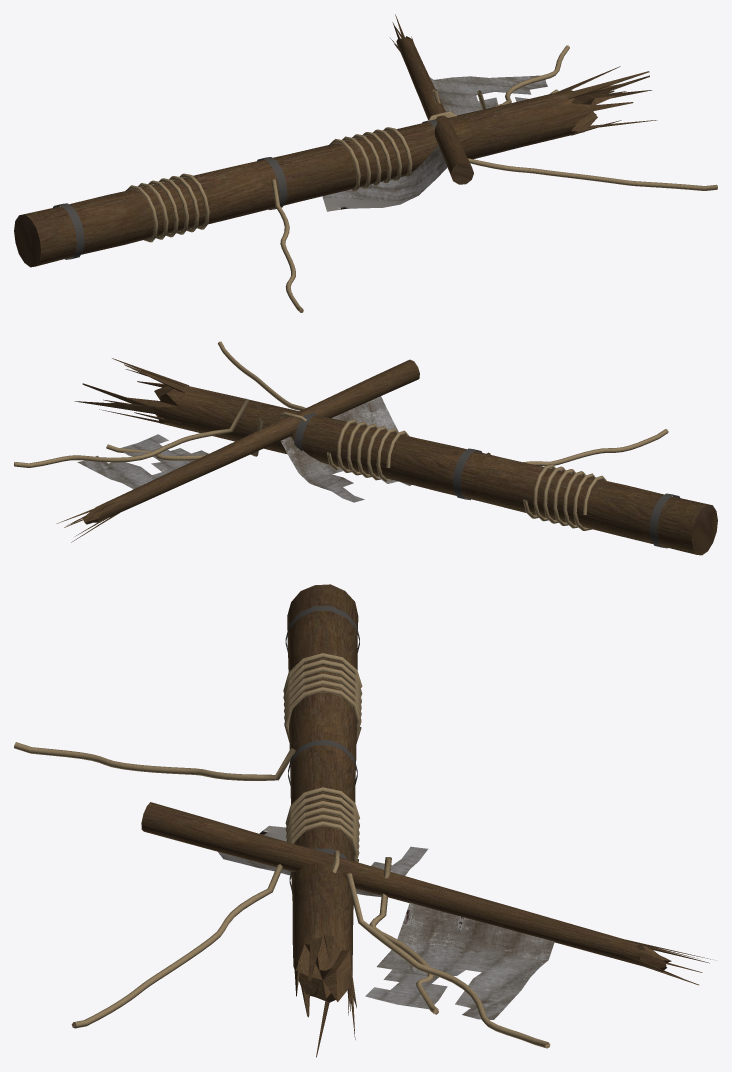
Rendered from snapped_mast.glb.
The picture shows the model from 3 angles, top to bottom: view 1: azimuth 30°, elevation 25°; view 2: azimuth 150°, elevation 25°; view 3: azimuth 270°, elevation 25°; orthographic projection. The views are drawn at different scales.
Visible parts, largest first — view 1: snapped_mast; view 2: snapped_mast; view 3: snapped_mast.
Boxes of the visible parts, bbox=[...] form: snapped_mast: bbox=[14, 14, 717, 312]; snapped_mast: bbox=[14, 341, 717, 555]; snapped_mast: bbox=[14, 584, 713, 1057].
Size of the model in its own units: 8.15 by 0.8447 by 5.95.
4 materials, 3 textured.
